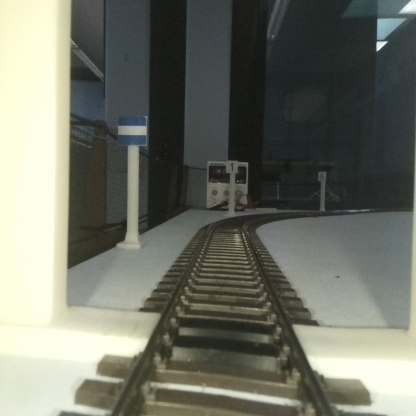start: (117, 115, 147, 247)
white-info-1: (225, 161, 238, 215)
